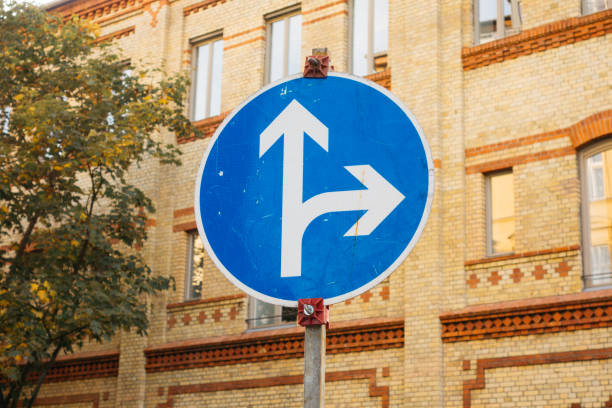ileri_veya_saga: (191, 72, 436, 305)
